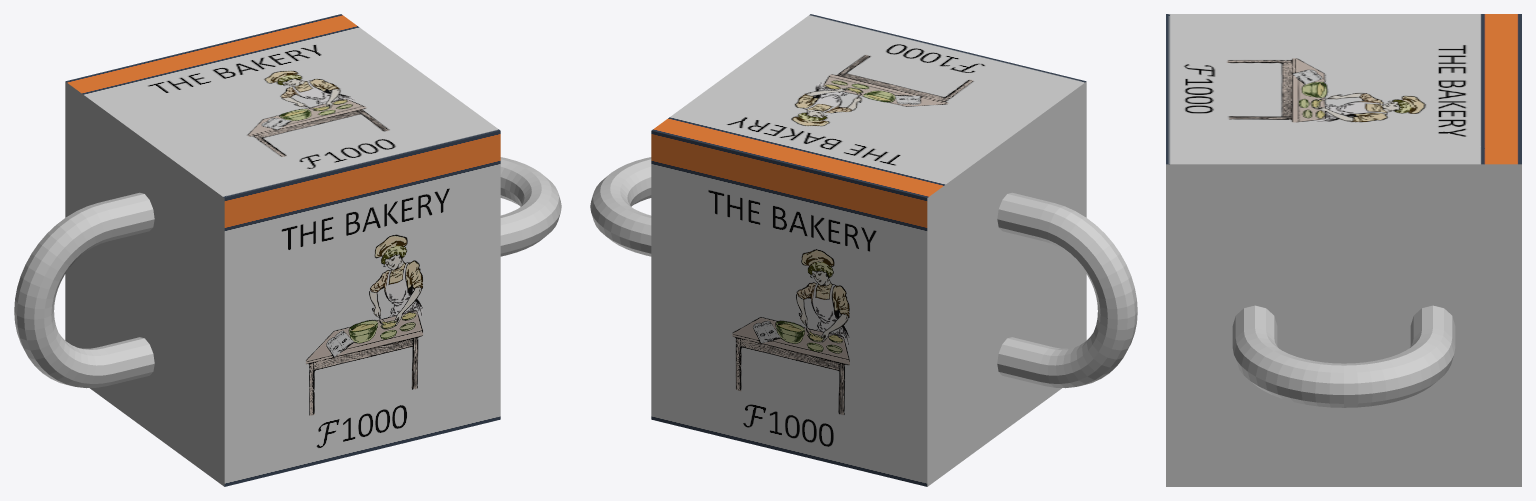
The model's file is chainblock_bakery.fbx.
3 renders of one model, left to right at view 1: azimuth 30°, elevation 25°; view 2: azimuth 150°, elevation 25°; view 3: azimuth 270°, elevation 25°, orthographic. The views are drawn at different scales.
Visible parts, largest first — view 1: Torus.045; view 2: Torus.045; view 3: Torus.045.
Part boxes in pixels (x1=…): Torus.045: x1=14, y1=14, x2=561, y2=486; Torus.045: x1=590, y1=14, x2=1137, y2=486; Torus.045: x1=1166, y1=14, x2=1521, y2=486.
Bounding box in the file's own units: 231 × 120 × 120.
